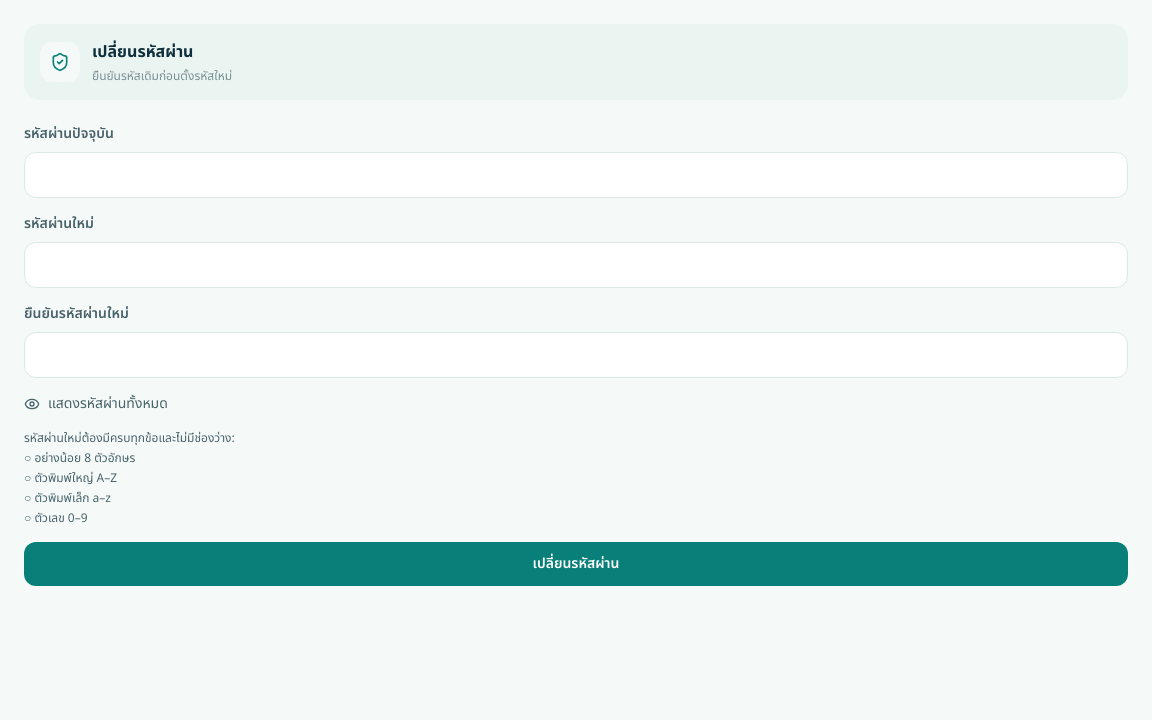
Test: profile password security › shows password rules while typing and rejects a password without uppercase
This screenshot has width=1152, height=720.
In the password field labelled "รหัสผ่านปัจจุบัน": (576, 175) left=24, top=152, right=1128, bottom=198, type "Oldpassword1"
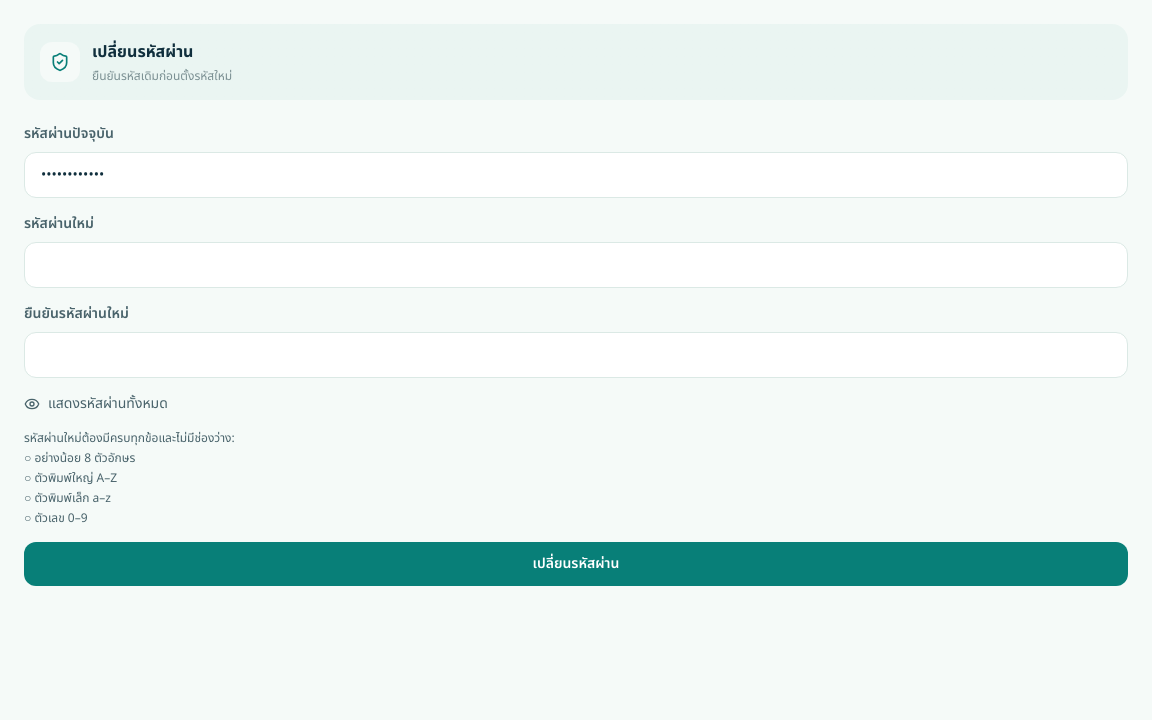
In the password field labelled "รหัสผ่านใหม่": (576, 265) left=24, top=242, right=1128, bottom=288, type "newpassword1"
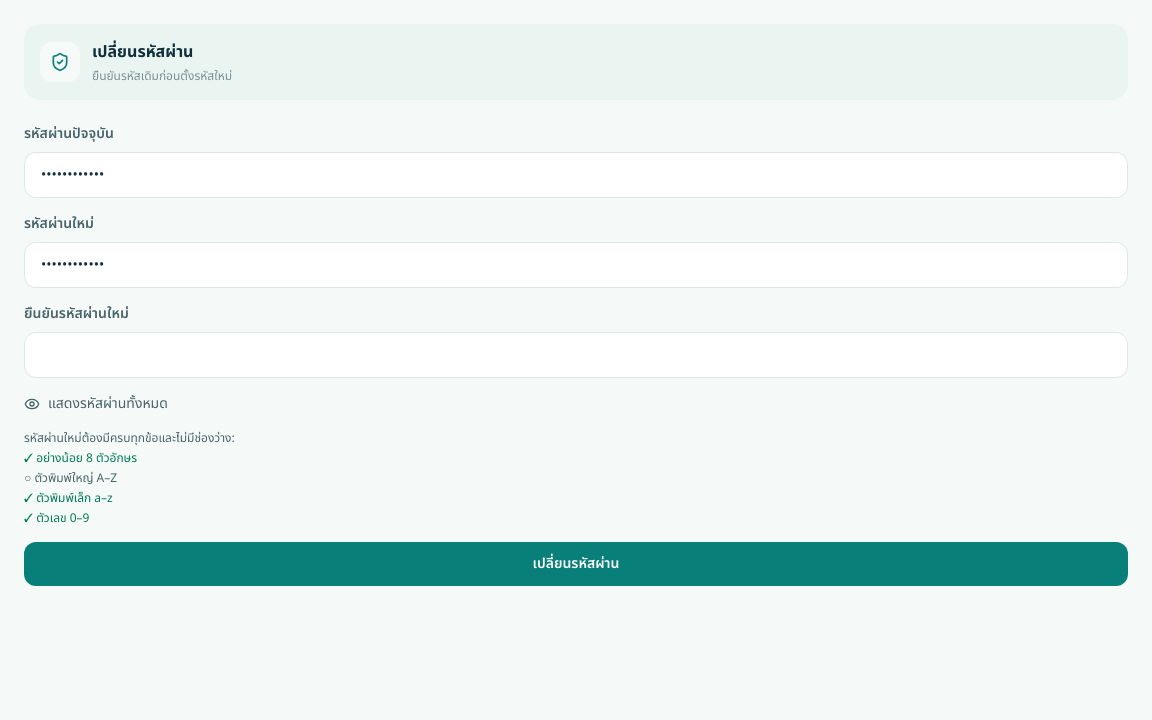
Check: the list item "○ ตัวพิมพ์ใหญ่ A–Z" is shown, box left=24, top=469, right=117, bottom=487
Check: the list item "✓ ตัวพิมพ์เล็ก a–z" is shown, box left=24, top=489, right=113, bottom=507
In the password field labelled "ยืนยันรหัสผ่านใหม่": (576, 355) left=24, top=332, right=1128, bottom=378, type "newpassword1"
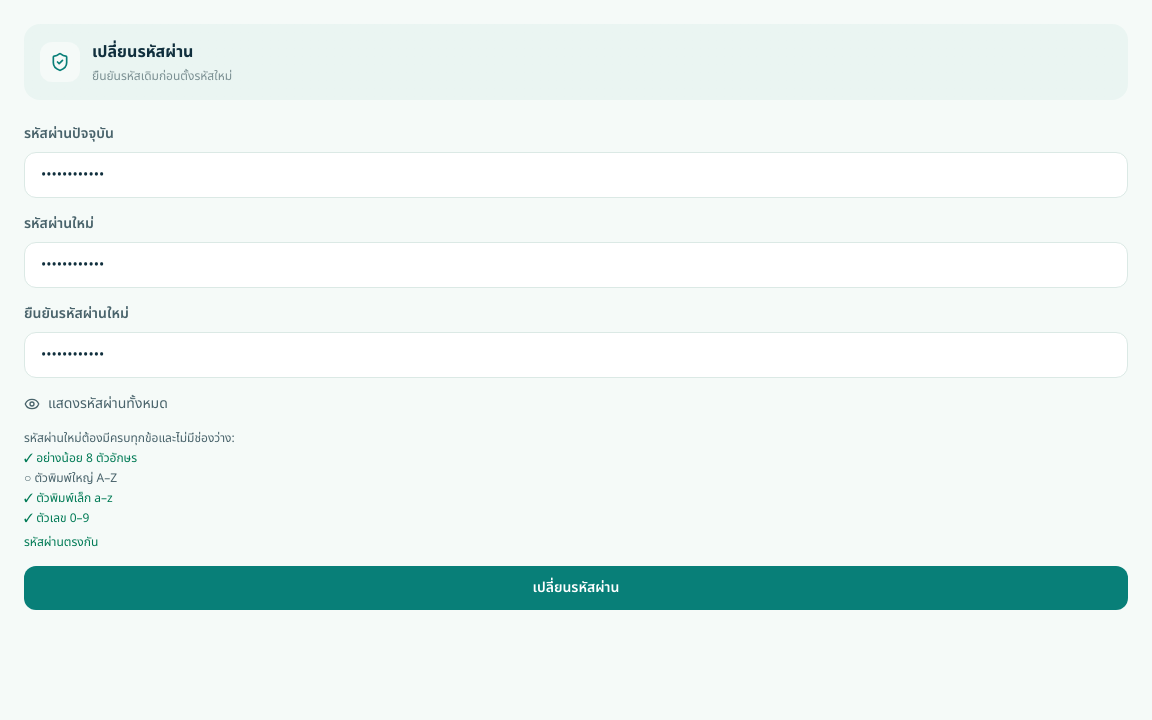
Click the button "เปลี่ยนรหัสผ่าน": (576, 588) left=24, top=566, right=1128, bottom=610
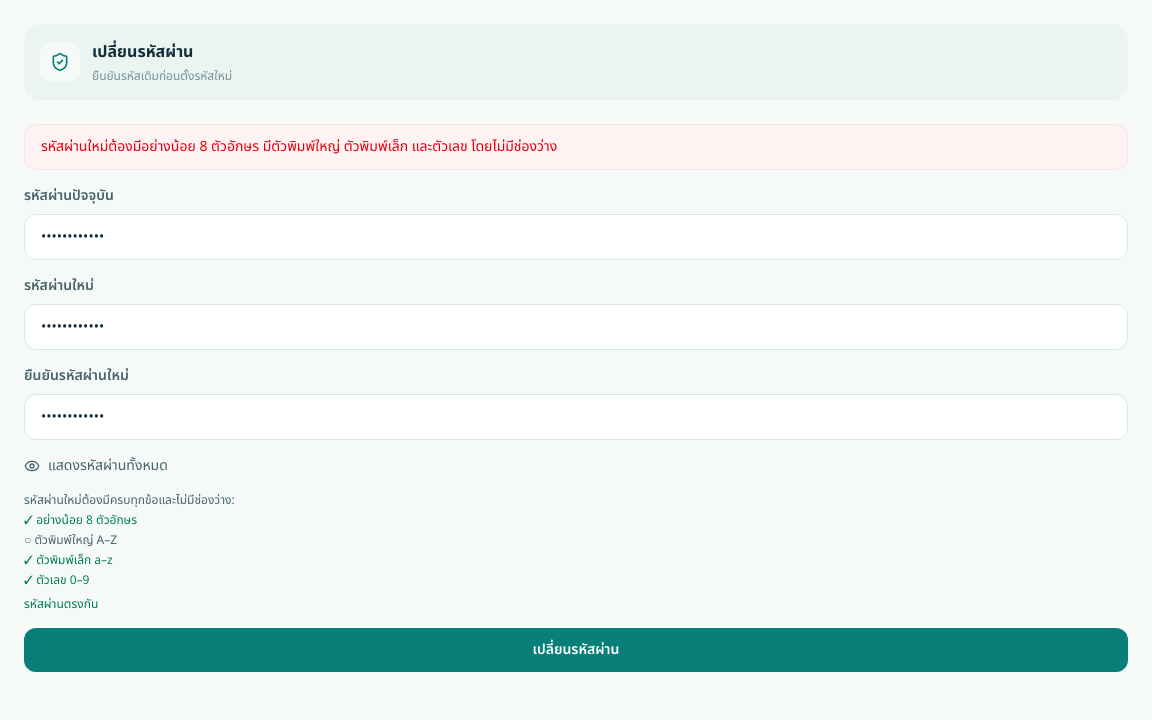
Check: the message shows "ตัวพิมพ์ใหญ่", box left=41, top=136, right=557, bottom=157
